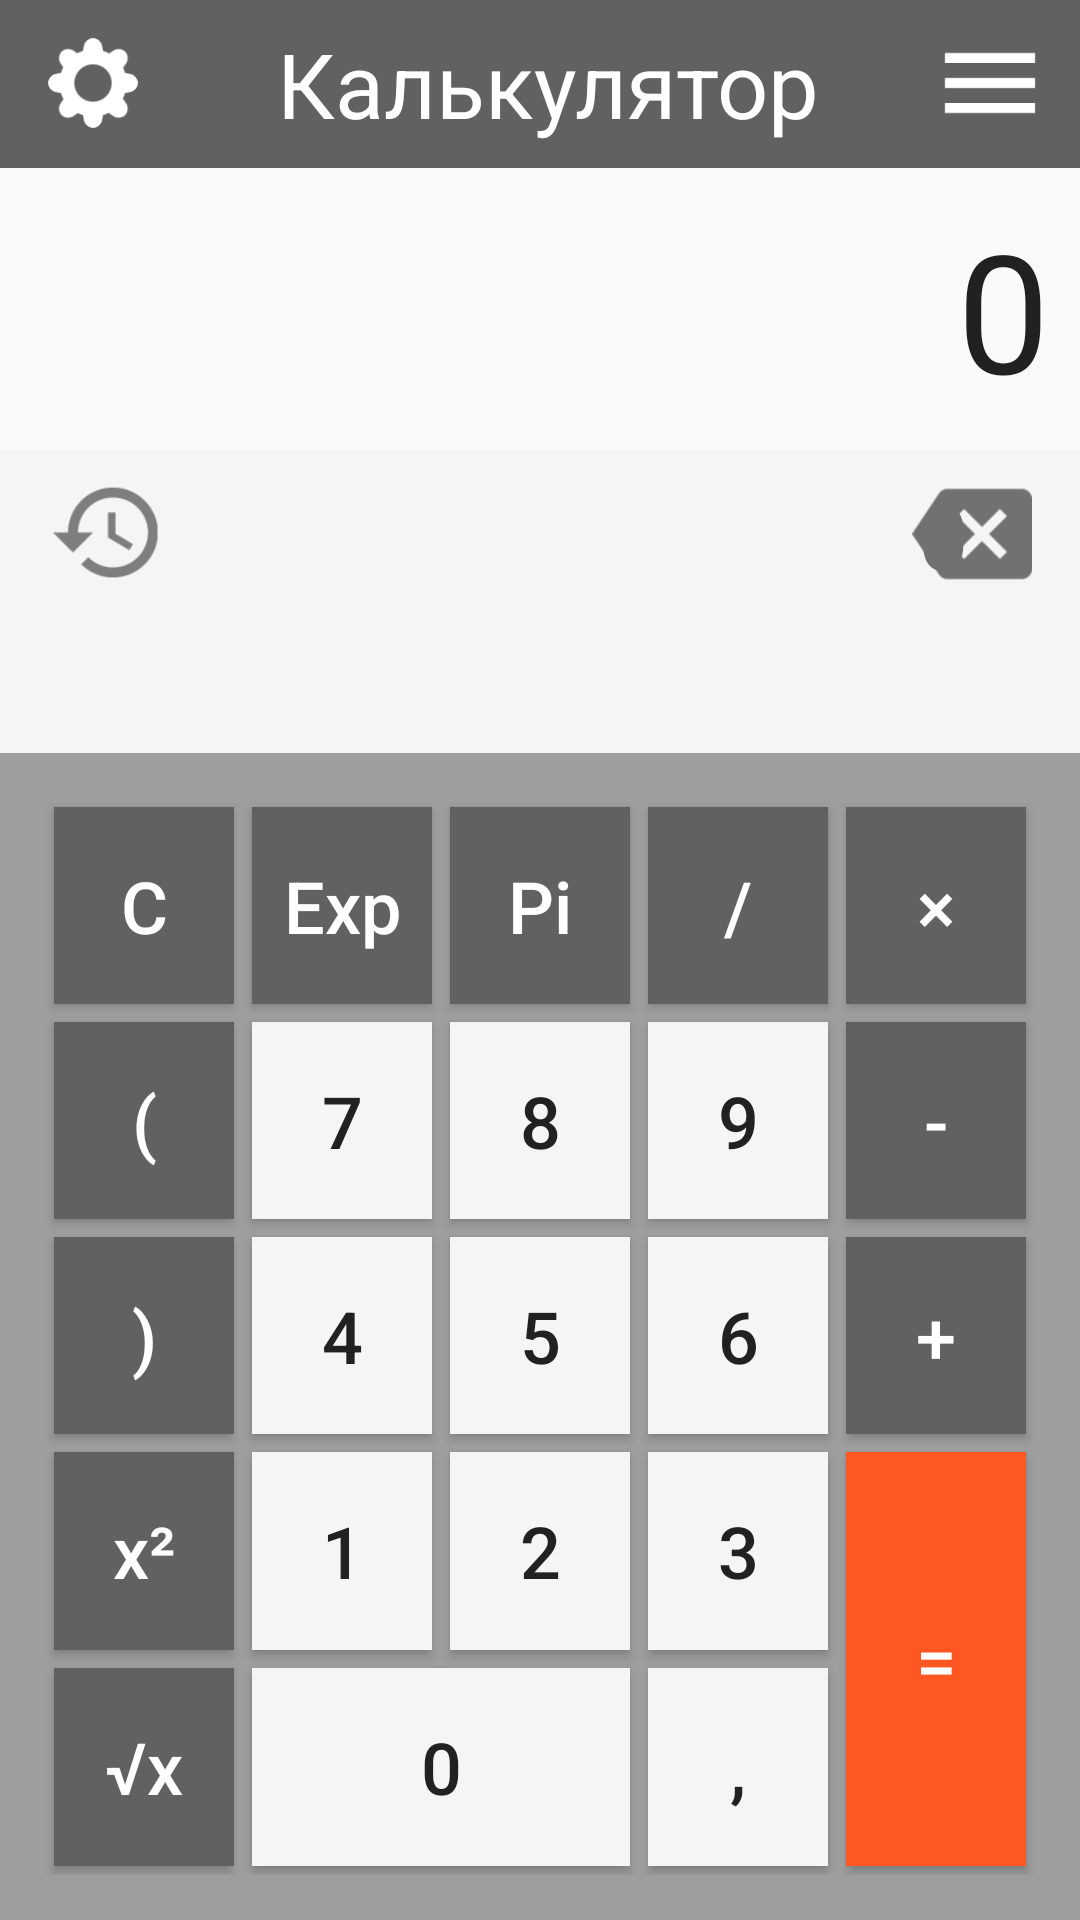

Icon bounding boxes for this 1080 × 1920 phone screenshot, format (x1, y1, x2, y2):
delete: (912, 488, 1032, 580)
history: (53, 487, 158, 578)
menu: (944, 52, 1036, 114)
settings: (48, 38, 138, 128)
